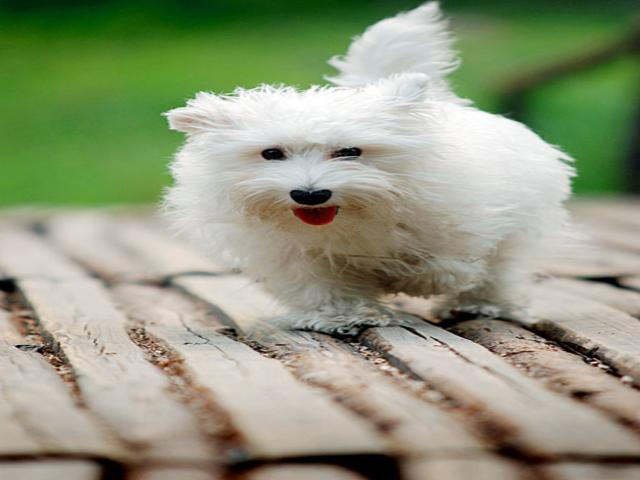Dog: (154, 0, 580, 333)
